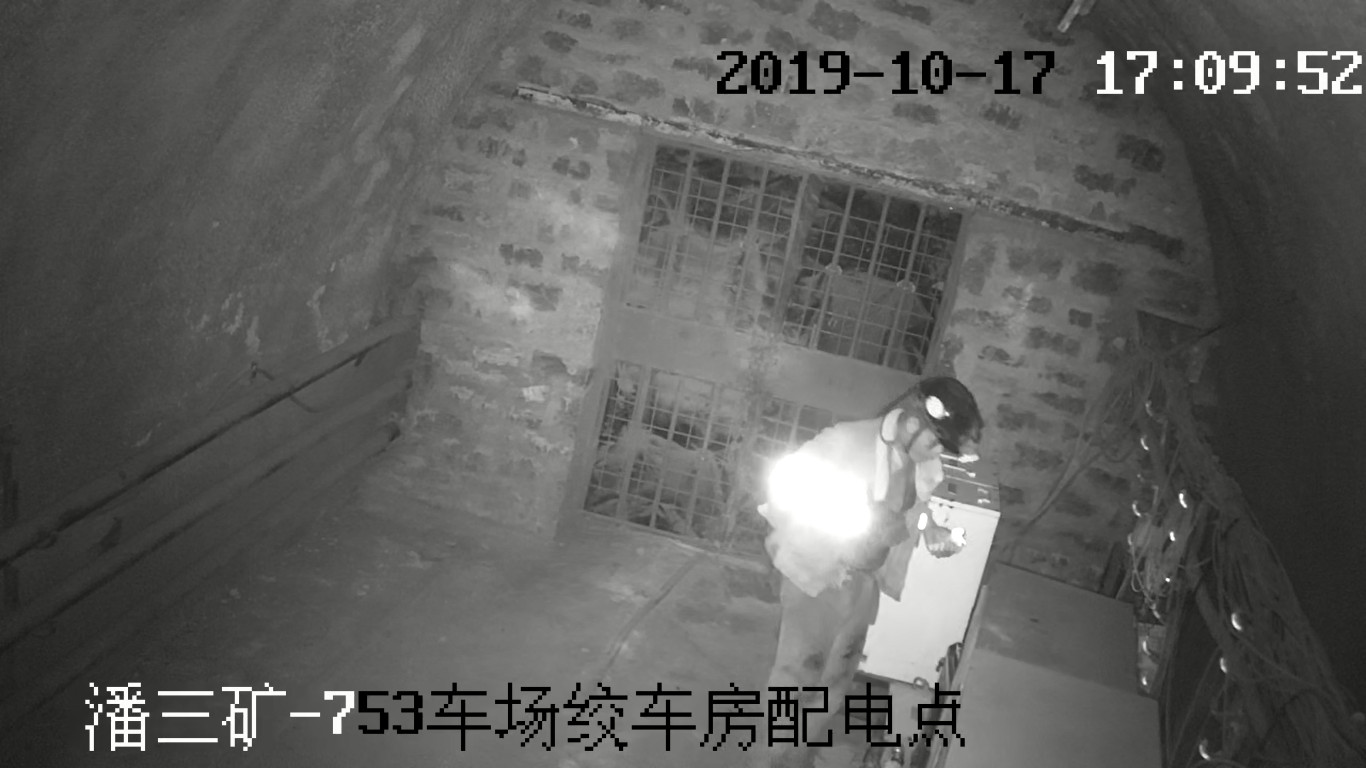helmet: (913, 377, 981, 454)
